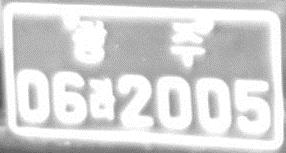0: (194, 75, 231, 135), (154, 75, 193, 131), (15, 67, 48, 124)
2: (117, 72, 154, 130)
5: (232, 78, 273, 136)
6: (51, 70, 87, 126)
광주_D: (70, 17, 206, 69)
라: (87, 77, 117, 121)
